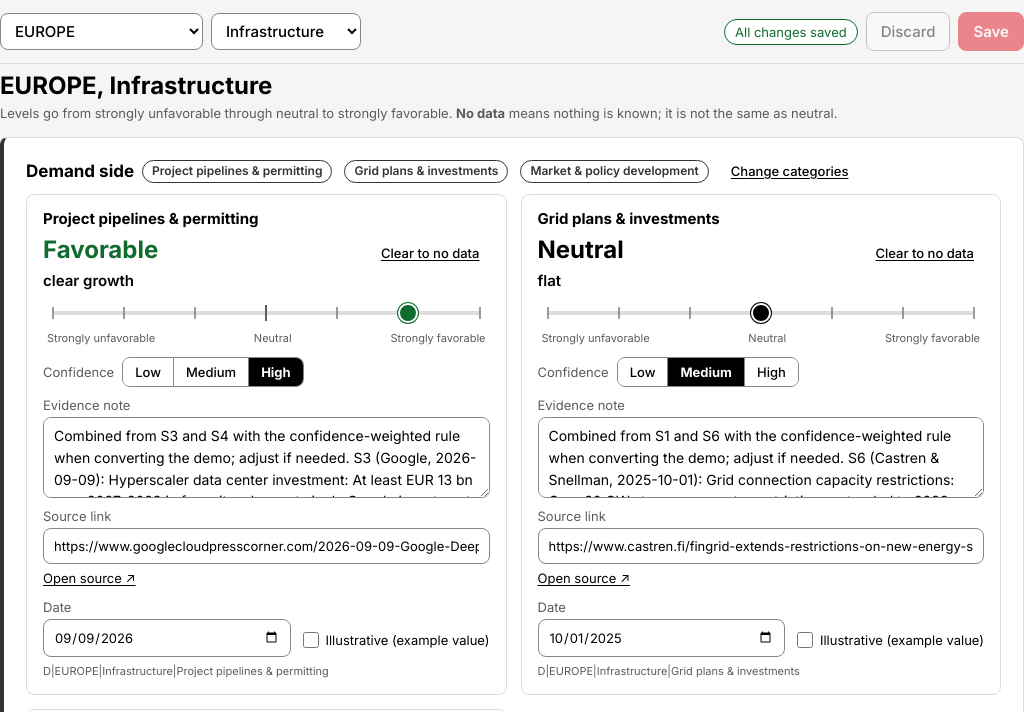
InputsTab › switches the selection with the Region and Segment dropdowns (no Previous/Next)
Expected: the heading "EUROPE, Infrastructure" is shown, [0, 71, 272, 100]
Select "Utilities" in the 2nd dropdown named "Segment". click: (286, 32)
box: [211, 13, 361, 50]
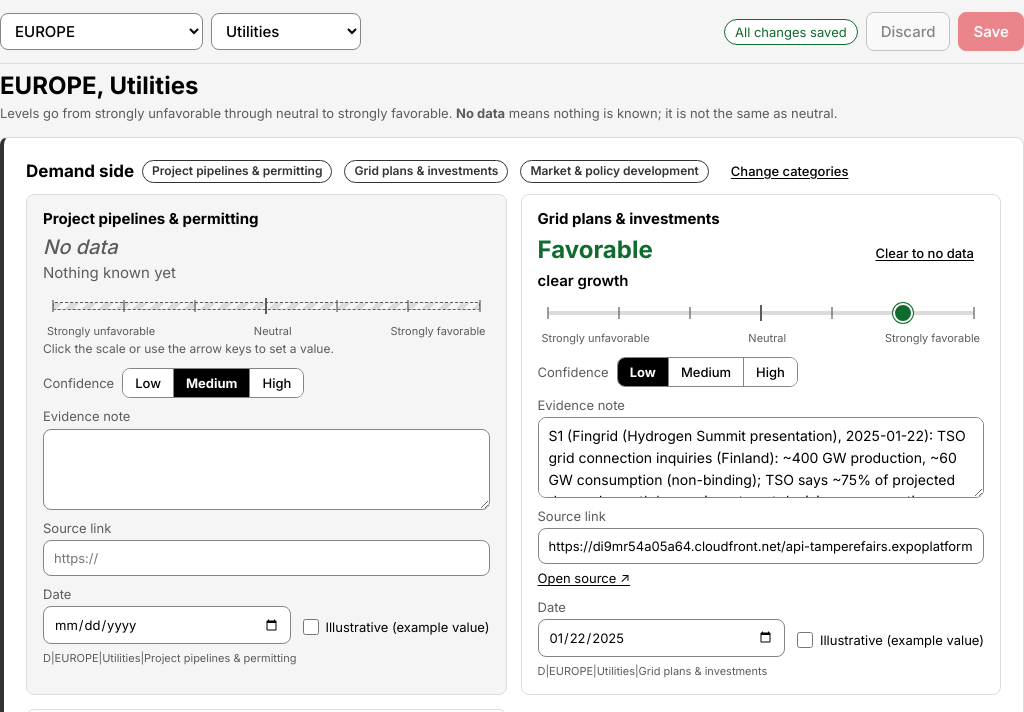
Expected: the heading "EUROPE, Utilities" is shown, [0, 71, 198, 100]
Select "GLOBAL (global trend)" in the 1st dropdown named "Region". click: (102, 32)
box: [0, 13, 203, 50]
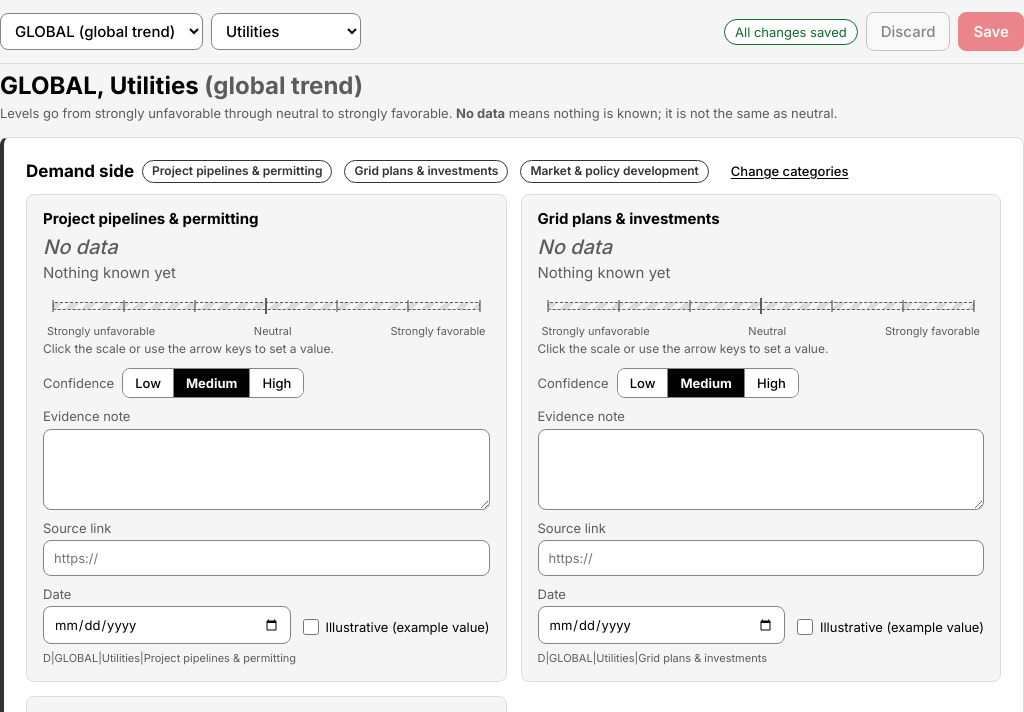
Select "Industry" in the 2nd dropdown named "Segment". click: (286, 32)
box: [211, 13, 361, 50]
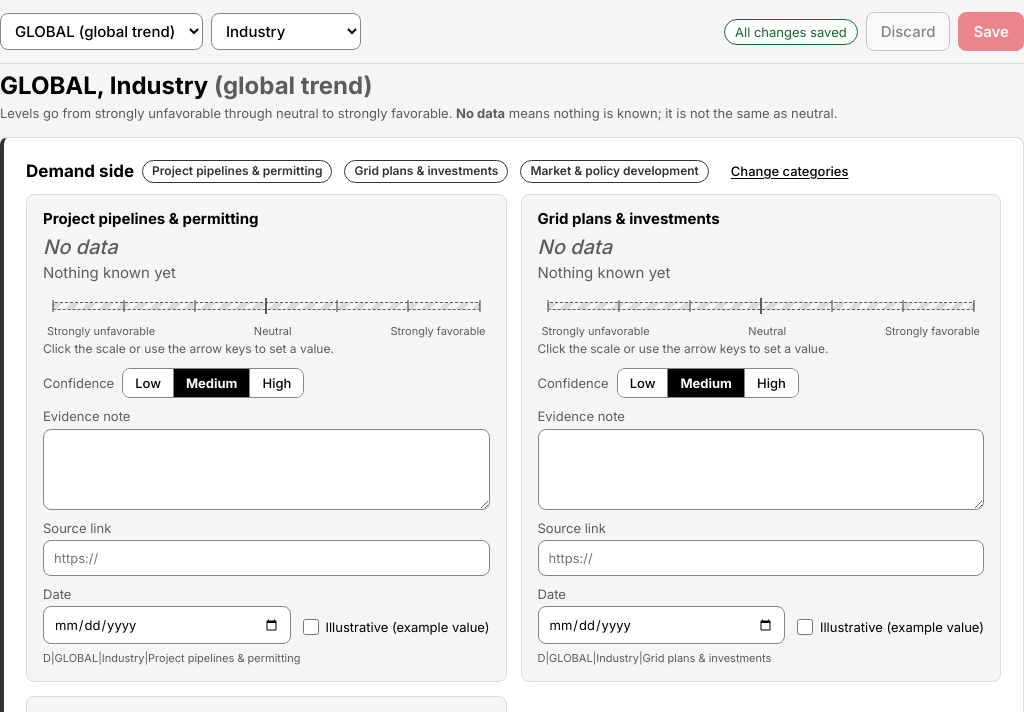
Expected: the heading "GLOBAL, Industry (global trend)" is shown, [0, 71, 373, 100]
Select "MEA" in the 1st dropdown named "Region". click: (102, 32)
box: [0, 13, 203, 50]
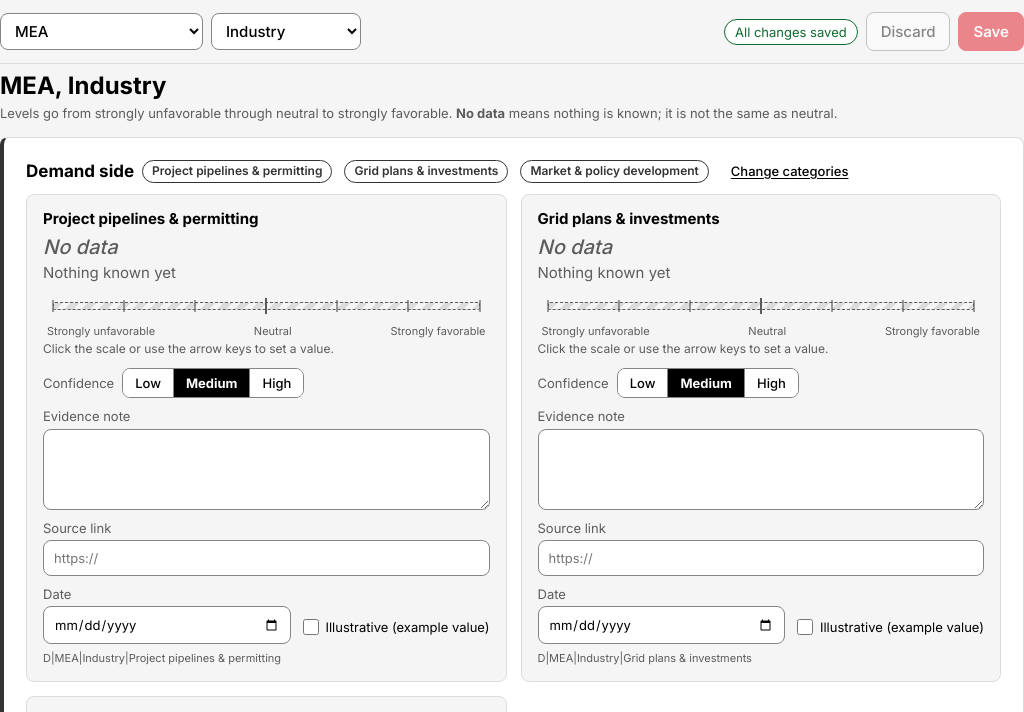
Expected: the heading "MEA, Industry" is shown, [0, 71, 166, 100]
